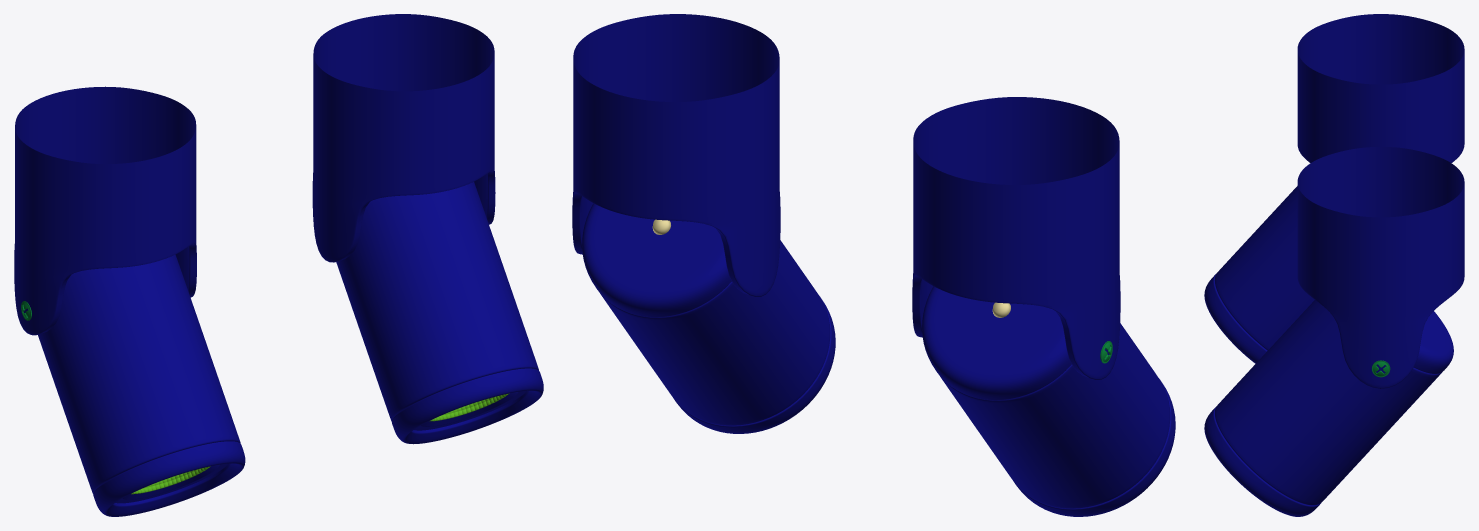
File: Artelamp A3316PL.obj
3 renders of one model, left to right at view 1: azimuth 30°, elevation 25°; view 2: azimuth 150°, elevation 25°; view 3: azimuth 270°, elevation 25°, orthographic. The views are drawn at different scales.
Parts seen in each view (by area): view 1: Cylinder014, Cylinder007, Cylinder010, Cylinder016, Object006, Object004; view 2: Cylinder010, Cylinder016, Cylinder007, Cylinder014; view 3: Cylinder010, Cylinder007, Cylinder016, Cylinder014.
Part boxes in pixels (bbox=[...]): Cylinder014: bbox=[38, 254, 245, 516]; Cylinder007: bbox=[336, 182, 543, 444]; Cylinder010: bbox=[312, 14, 495, 262]; Cylinder016: bbox=[14, 86, 196, 335]; Object006: bbox=[118, 464, 224, 501]; Object004: bbox=[417, 391, 523, 428]; Cylinder010: bbox=[572, 14, 780, 296]; Cylinder016: bbox=[912, 97, 1120, 379]; Cylinder007: bbox=[582, 203, 835, 433]; Cylinder014: bbox=[922, 286, 1175, 516]; Cylinder010: bbox=[1297, 147, 1464, 388]; Cylinder007: bbox=[1204, 300, 1453, 516]; Cylinder016: bbox=[1297, 14, 1464, 162]; Cylinder014: bbox=[1204, 186, 1314, 363].
Bounding box in the file's own units: 185 × 137 × 99.32.
